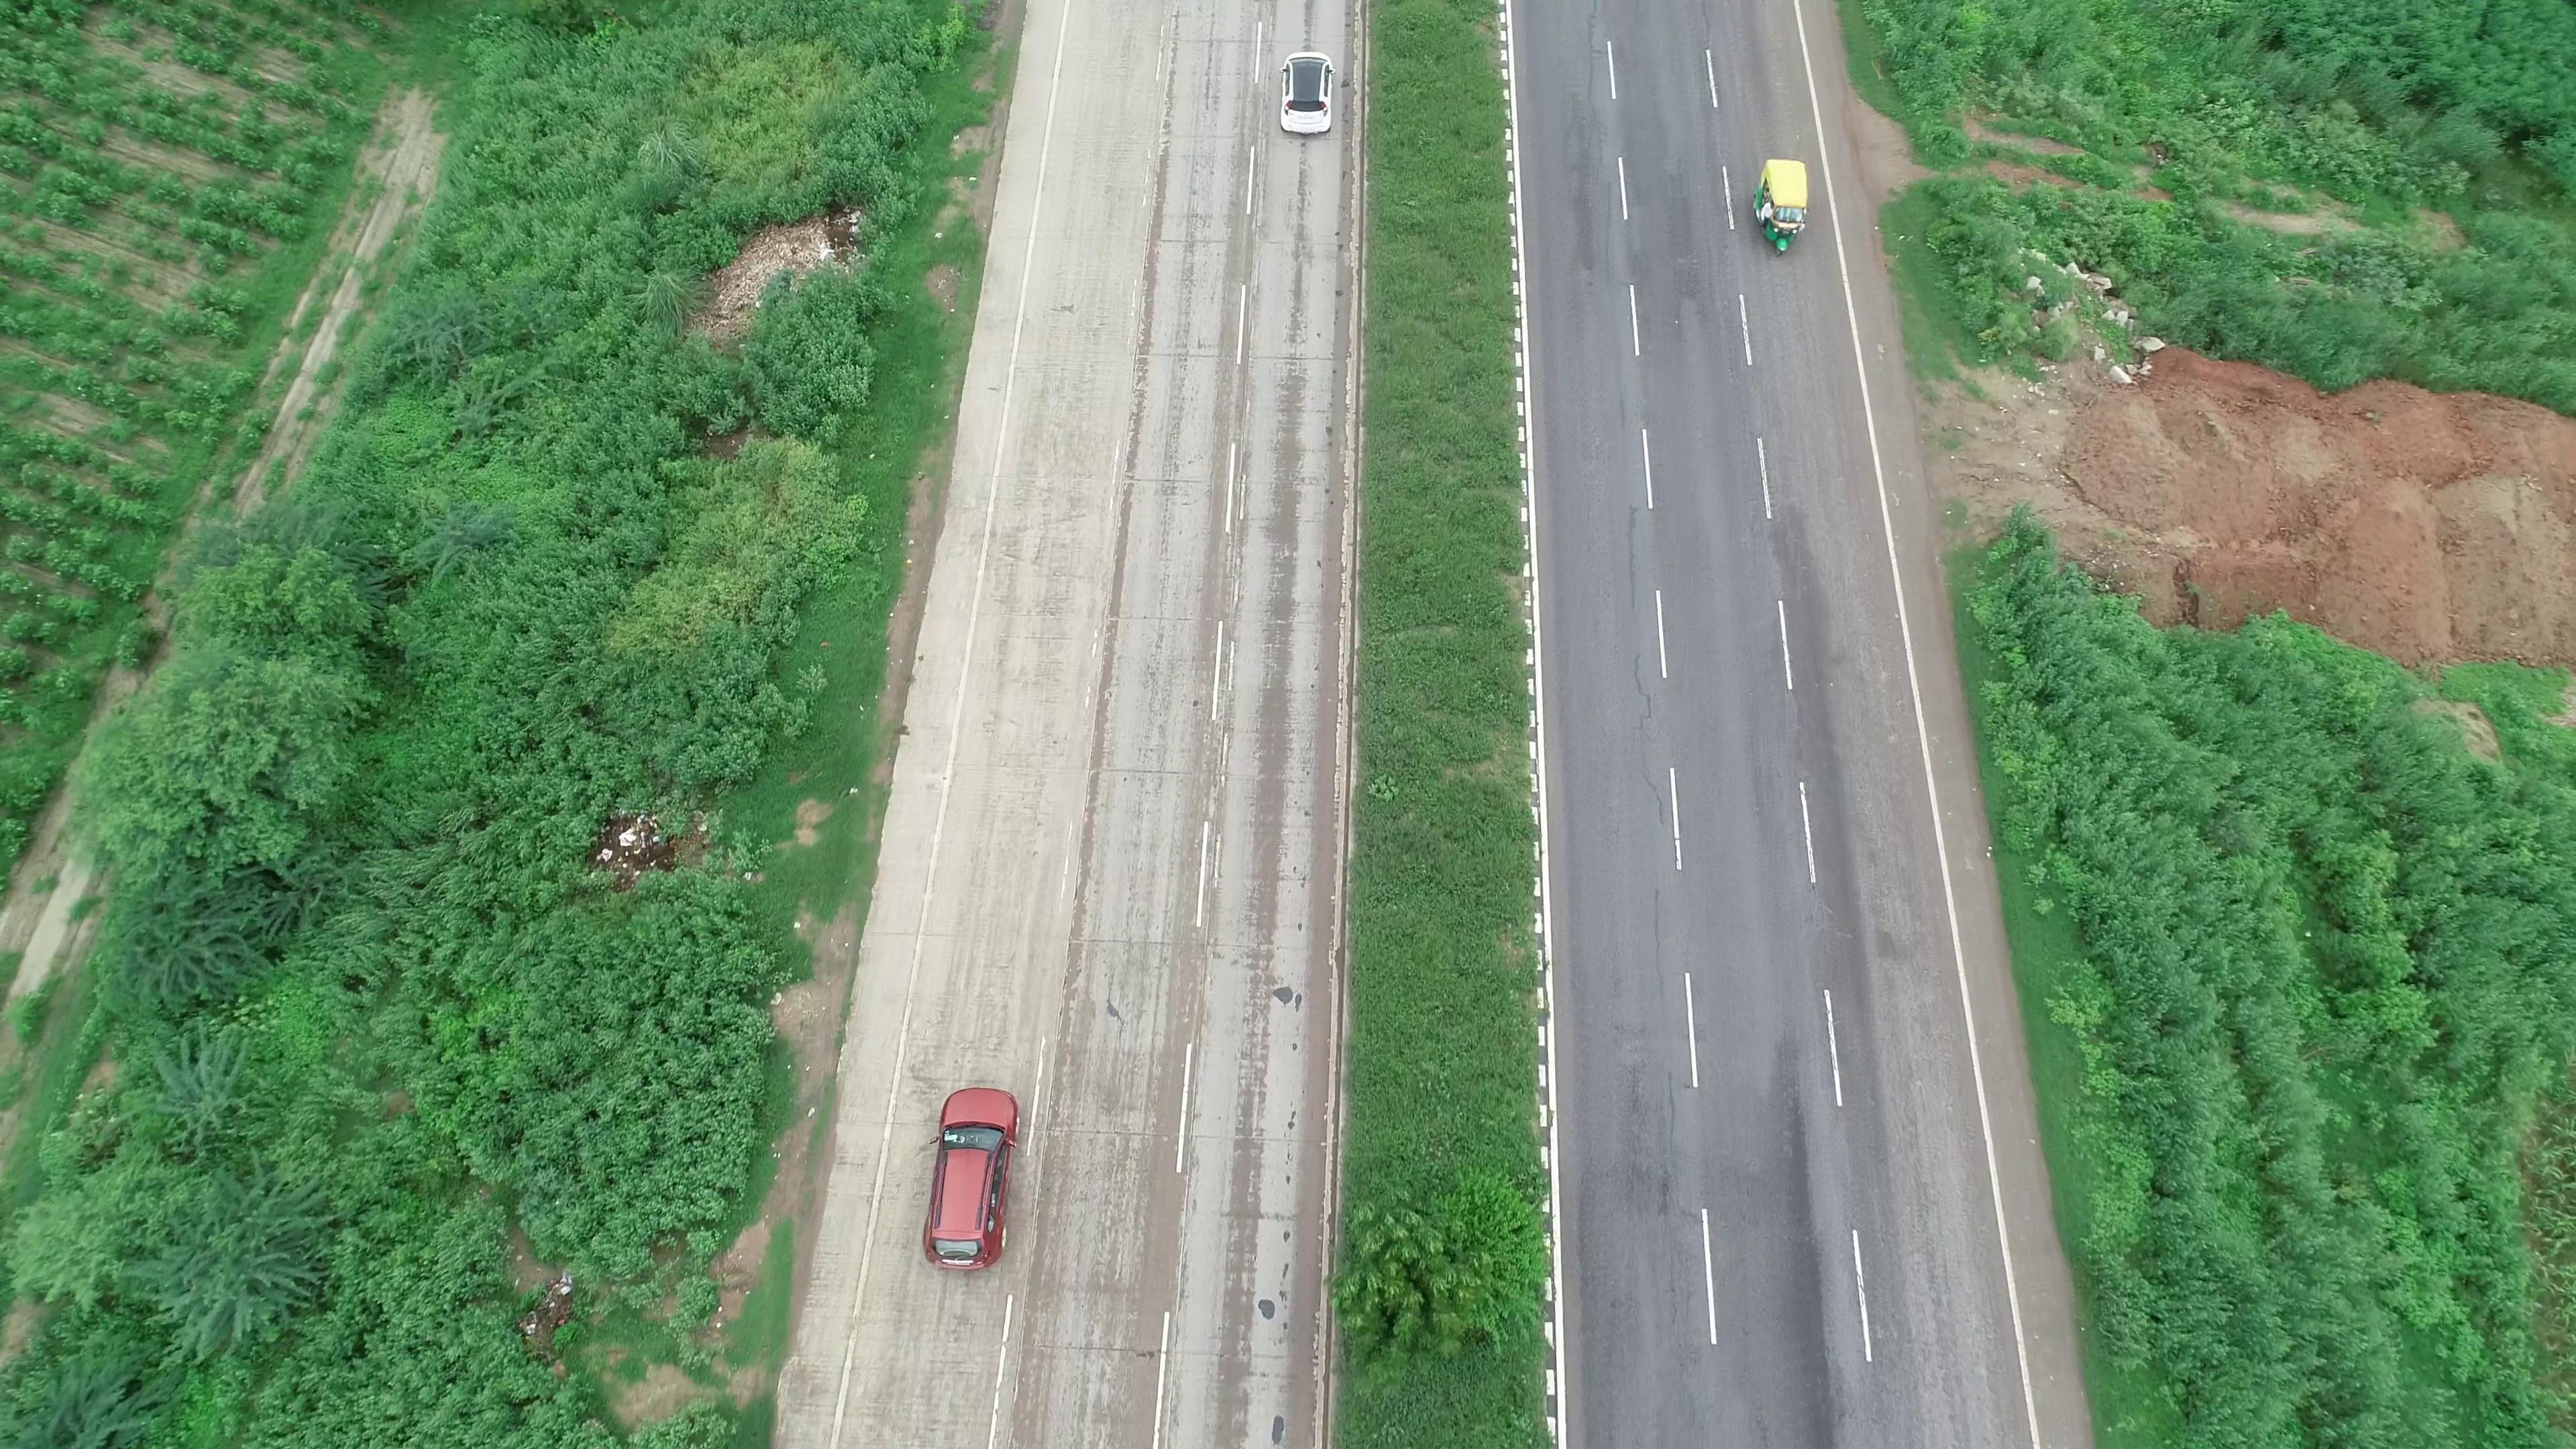Longitudinal_cracks: (1596, 499, 1675, 847)
